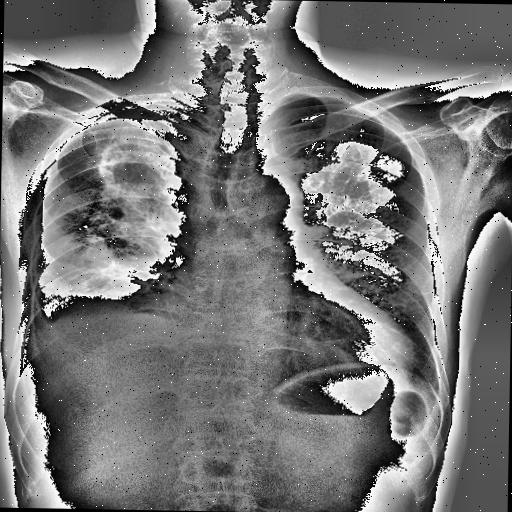0- Aortic enlargement: (236, 176, 299, 246), (250, 174, 306, 235)
10- Pleural effusion: (24, 236, 189, 368), (21, 304, 198, 350)
13- Pulmonary fibrosis: (97, 116, 188, 248), (96, 111, 164, 211)
3- Cardiomegaly: (171, 262, 418, 372)
4- Consolidation: (38, 244, 184, 320)
6- Infiltration: (97, 116, 188, 248)
7- Lung Opacity: (43, 254, 160, 308), (84, 260, 118, 288)
